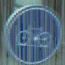bike lane: (8, 5, 58, 57)
